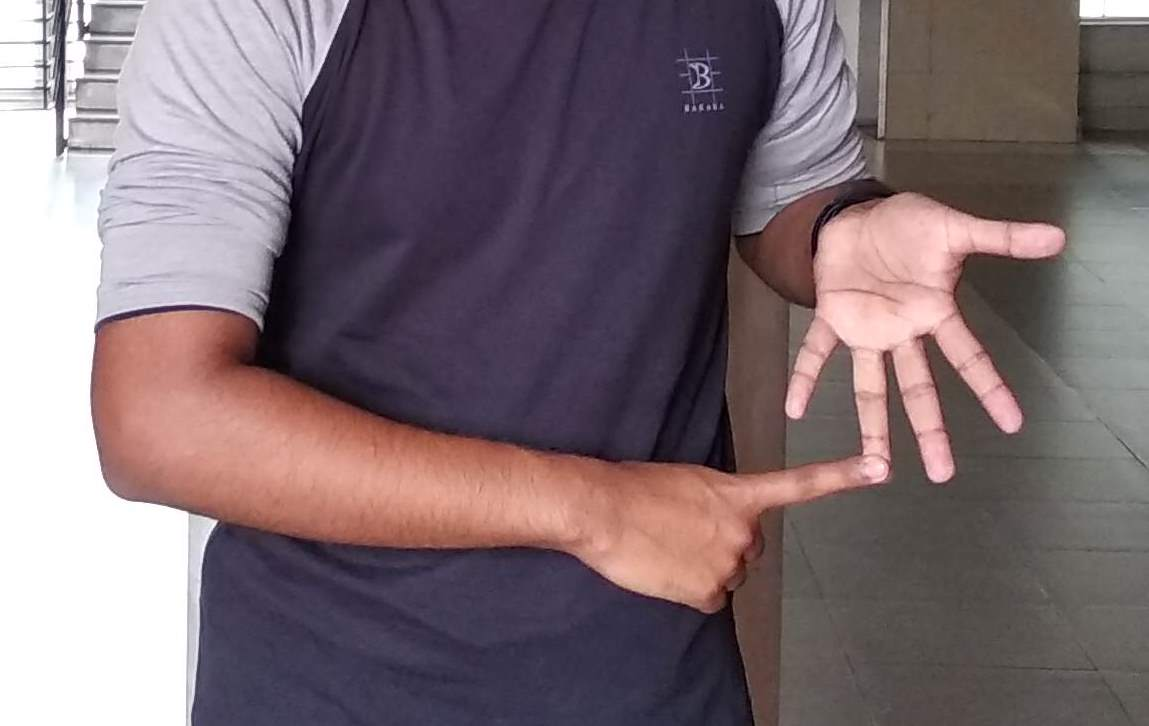e: (726, 327, 1071, 528)
